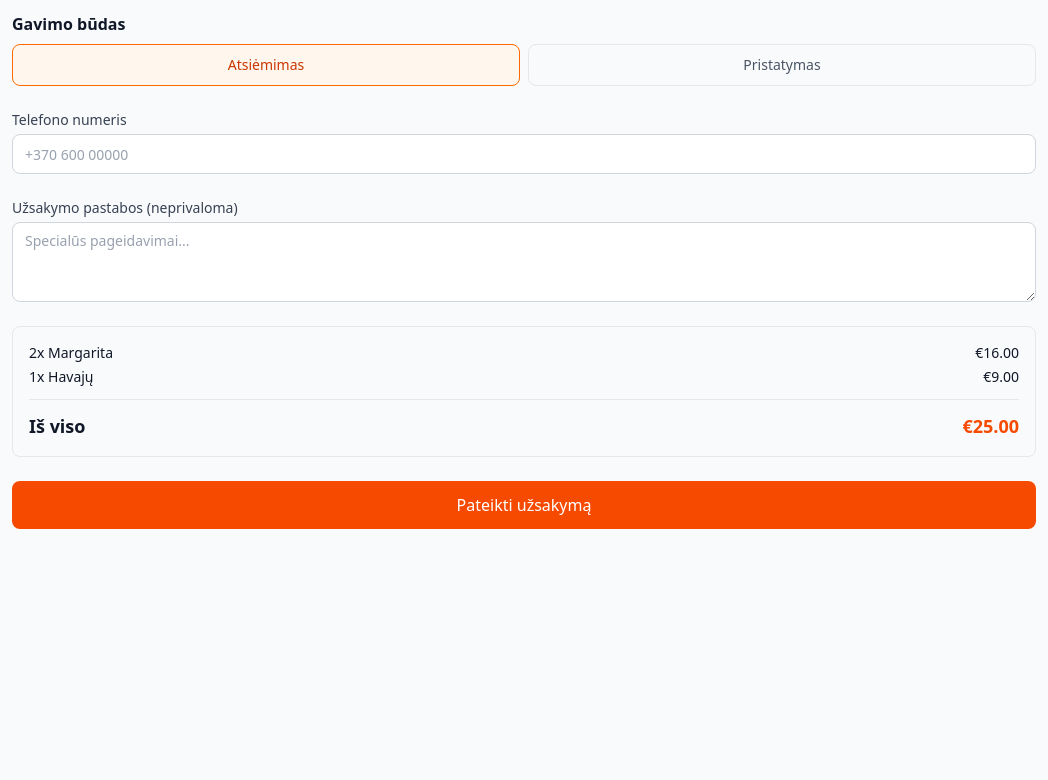
CheckoutForm › validation: empty phone shows error
Click the button "Pateikti užsakymą". click: (524, 505)
box: [12,481,1036,529]
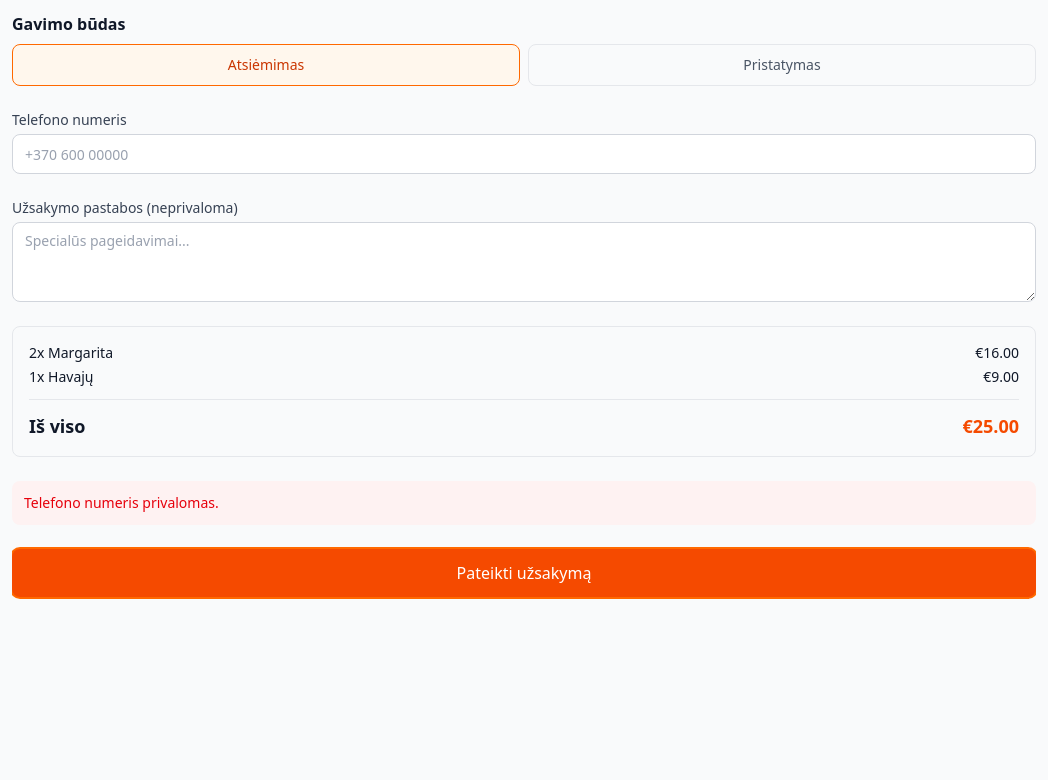
Expected: the text "Telefono numeris privalomas." is shown, [12,481,1036,525]
